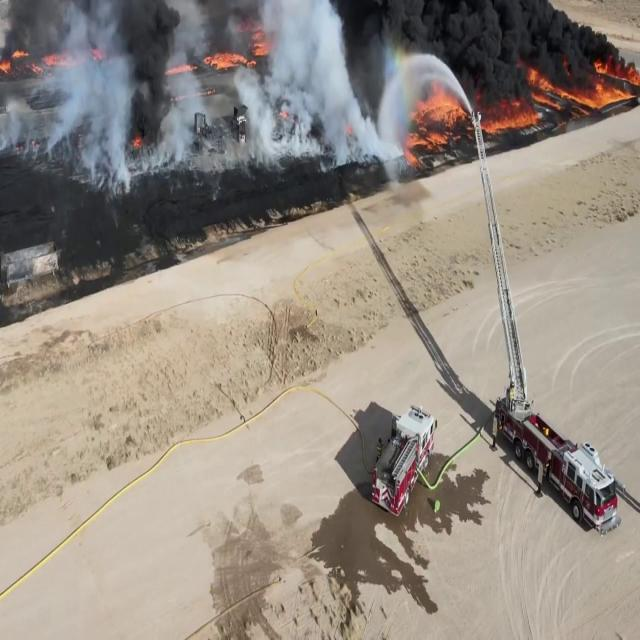Fire: (481, 64, 635, 131)
Smoke: (0, 0, 598, 165)
